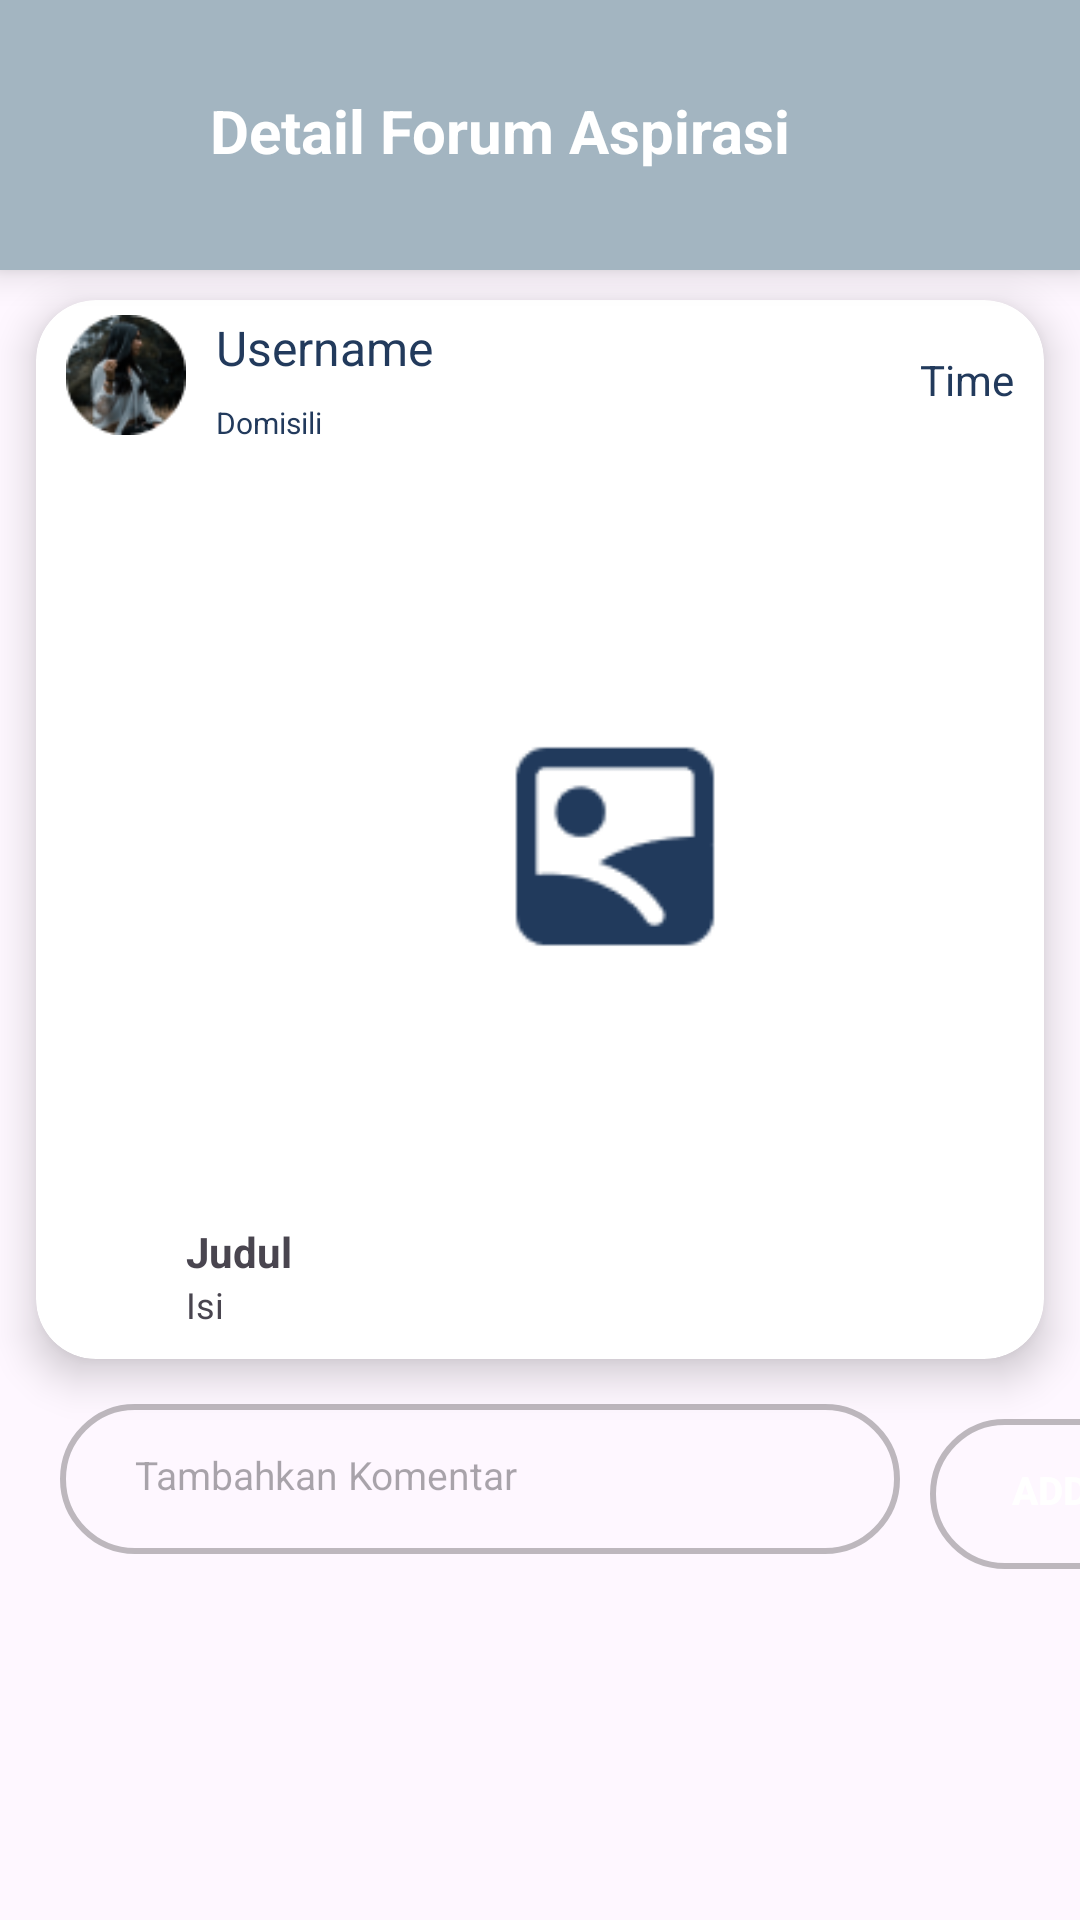

Locate icon controls on the screen. Image size 1080px×1920px, boxes as (x1, y1, x2, y2).
profil: (66, 315, 186, 435)
